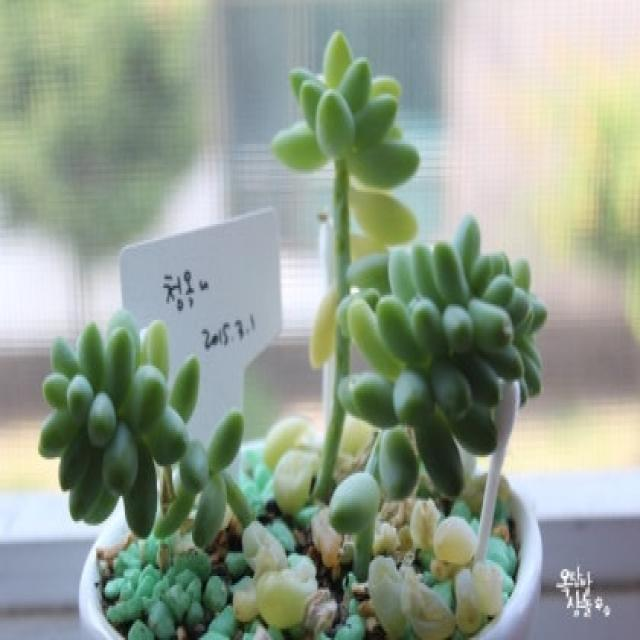Sedum: (336, 218, 546, 496), (39, 309, 252, 547), (271, 32, 420, 250)
